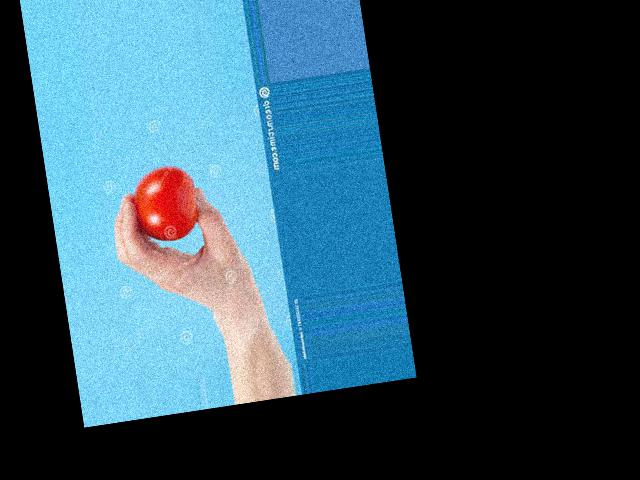tomato: (128, 163, 202, 244)
